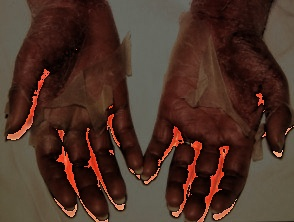SJS-TEN: (141, 0, 294, 222), (0, 0, 143, 222)
